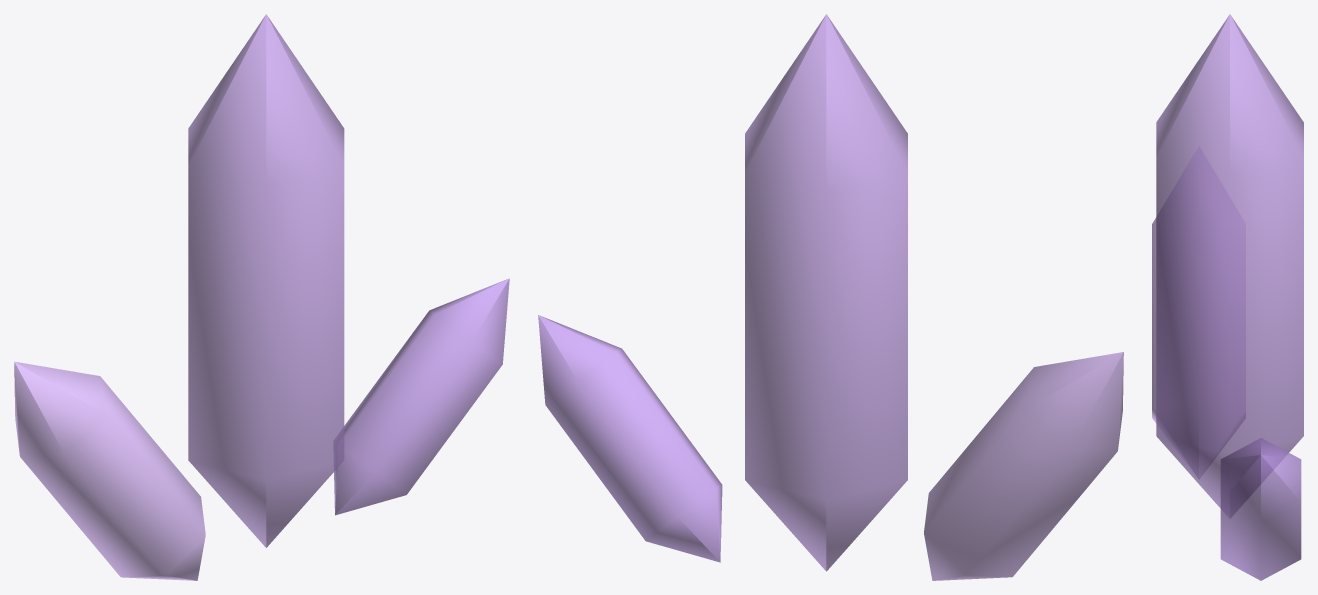
The model's file is crystal.glb.
3 renders of one model, left to right at view 1: azimuth 30°, elevation 25°; view 2: azimuth 150°, elevation 25°; view 3: azimuth 270°, elevation 25°, orthographic. The views are drawn at different scales.
Visible parts, largest first — view 1: Big crystal, Left crystal, Right crystal; view 2: Big crystal, Left crystal, Right crystal; view 3: Big crystal, Left crystal, Right crystal.
Boxes of the visible parts, x1=… form: Big crystal: x1=188, y1=14, x2=344, y2=547; Left crystal: x1=14, y1=361, x2=205, y2=580; Right crystal: x1=334, y1=278, x2=509, y2=515; Big crystal: x1=745, y1=14, x2=907, y2=571; Left crystal: x1=924, y1=352, x2=1123, y2=580; Right crystal: x1=538, y1=315, x2=722, y2=562; Big crystal: x1=1156, y1=14, x2=1303, y2=517; Left crystal: x1=1152, y1=147, x2=1245, y2=478; Right crystal: x1=1220, y1=438, x2=1301, y2=580.
Size of the model in its own units: 3.73 by 3.6 by 0.9794.
